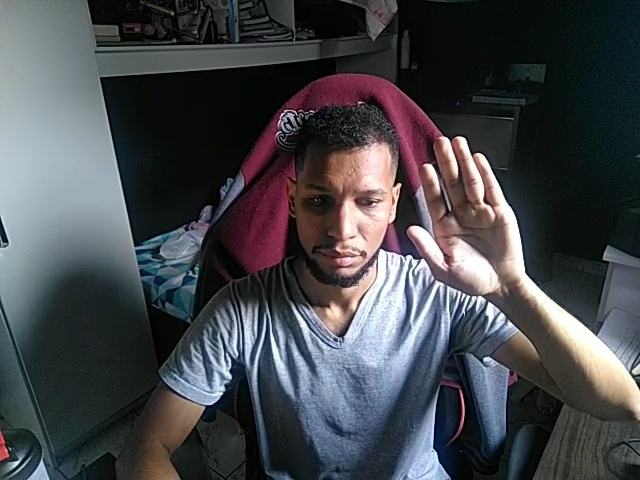oi: (404, 134, 531, 305)
